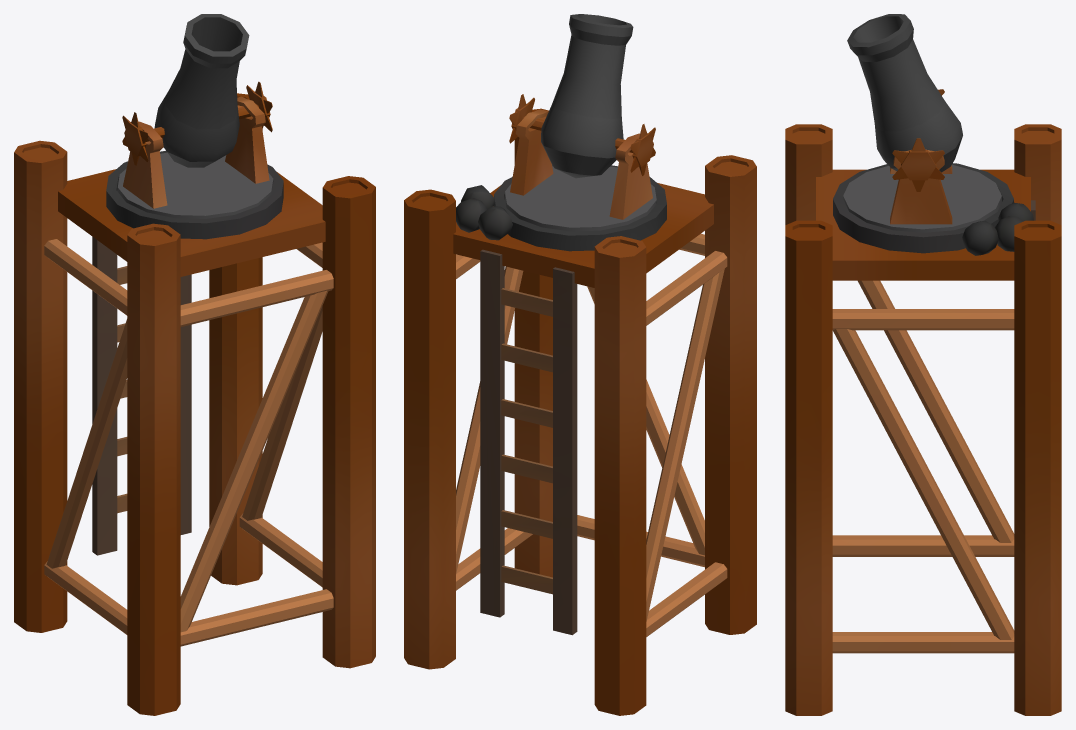
File: CannonTower.fbx
3 renders of one model, left to right at view 1: azimuth 30°, elevation 25°; view 2: azimuth 150°, elevation 25°; view 3: azimuth 270°, elevation 25°, orthographic. The views are drawn at different scales.
Parts seen in each view (by area): view 1: CannonTower, Cannon; view 2: CannonTower, Cannon; view 3: CannonTower, Cannon.
Boxes of the visible parts, box(x1,y1,x2,y2) form: CannonTower: box(14, 93, 375, 715); Cannon: box(117, 14, 273, 218); CannonTower: box(404, 108, 756, 715); Cannon: box(505, 14, 656, 231); CannonTower: box(785, 124, 1061, 715); Cannon: box(843, 14, 1001, 232).
Size of the model in its own units: 243 by 620 by 244.
